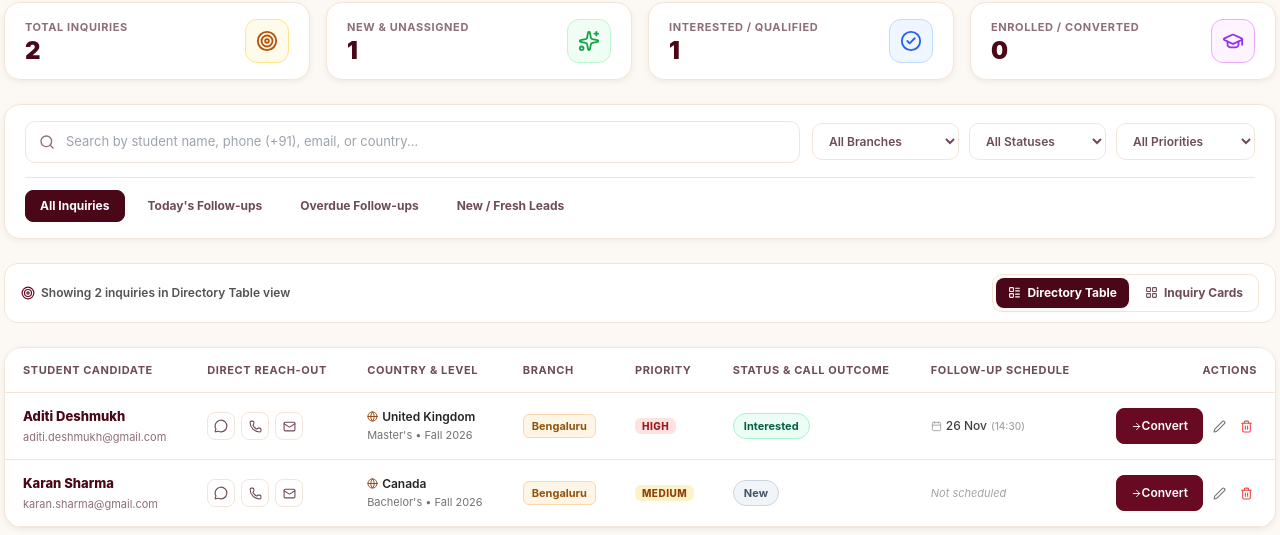
Test: LeadsPage Component Suite (Milestone M2) › switches between Directory Table and Inquiry Cards views
Expected: the text "Aditi Deshmukh" is shown, [23,408,125,424]
Click the button "Inquiry Cards": (1194,292) [1133,278,1255,308]
(page scrolled)
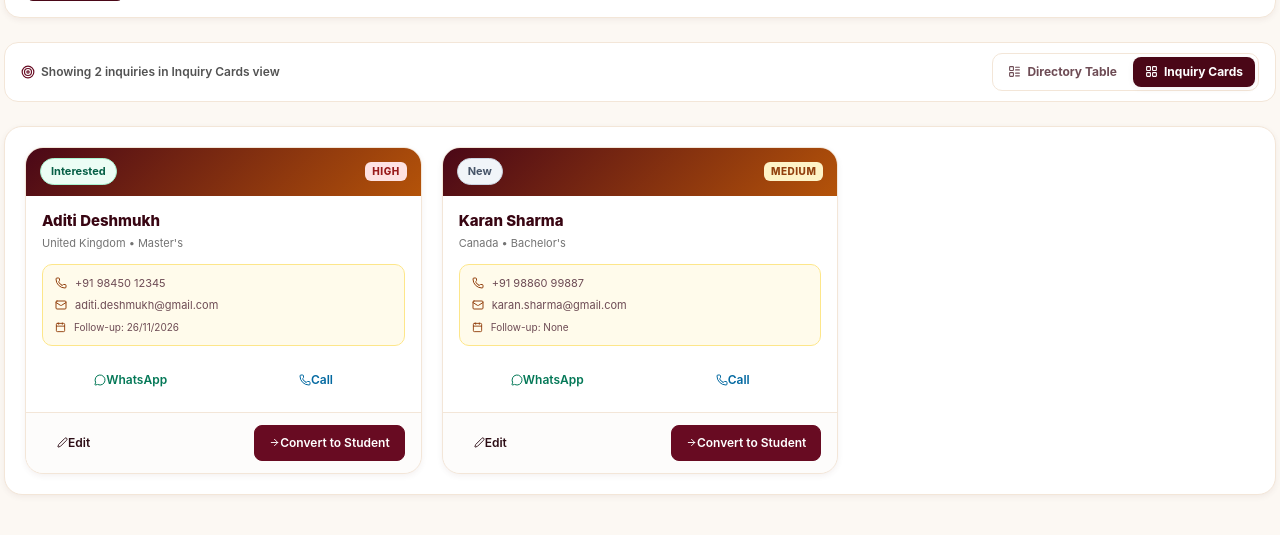
Now the element named "Inquiry Cards View" is shown, box [25,146,838,474]
